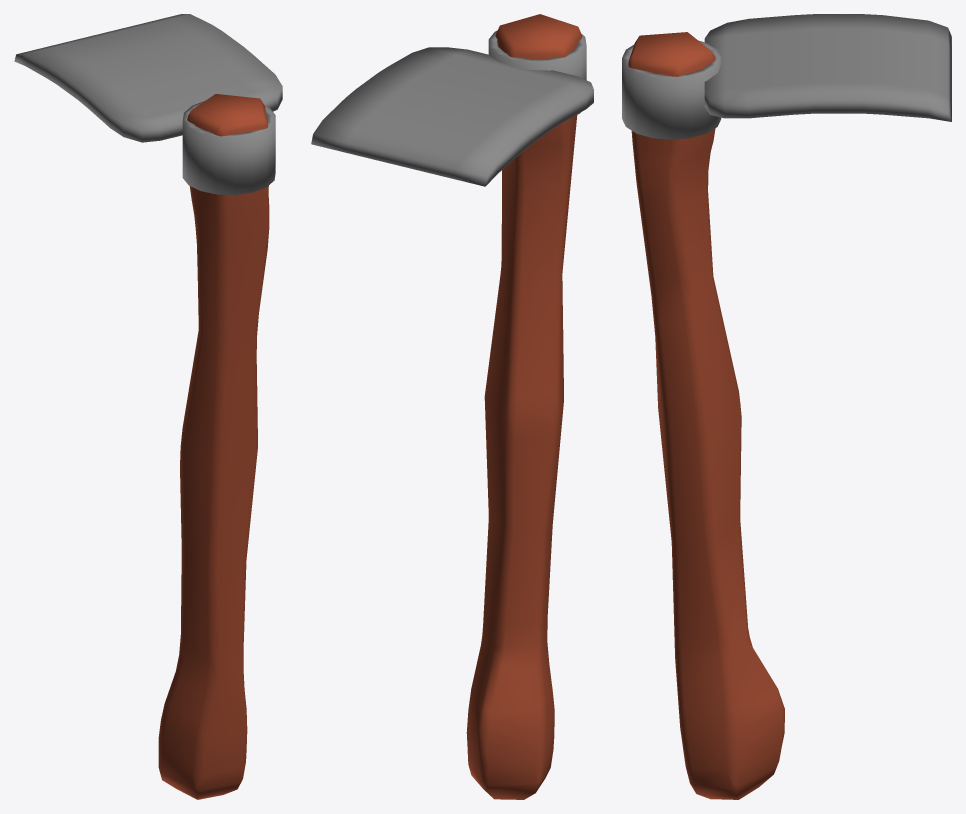
The model's file is toolsHoe.fbx.
The picture shows the model from 3 angles, left to right: view 1: azimuth 30°, elevation 25°; view 2: azimuth 150°, elevation 25°; view 3: azimuth 270°, elevation 25°; orthographic projection. The views are drawn at different scales.
Visible parts, largest first — view 1: Hoe; view 2: Hoe; view 3: Hoe.
Boxes of the visible parts, left/top/right/bottom form: Hoe: left=14, top=14, right=282, bottom=799; Hoe: left=311, top=14, right=593, bottom=799; Hoe: left=622, top=14, right=951, bottom=799.
Size of the model in its own units: 77.4 by 314 by 126.
